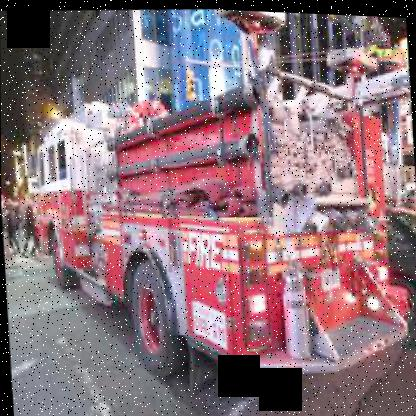emergency: (21, 25, 415, 401)
